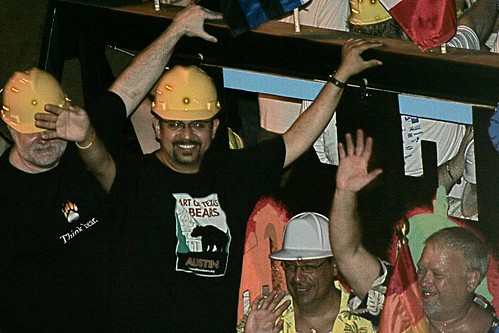person hardhat: (93, 64, 244, 333), (5, 67, 140, 321), (248, 204, 377, 333)
